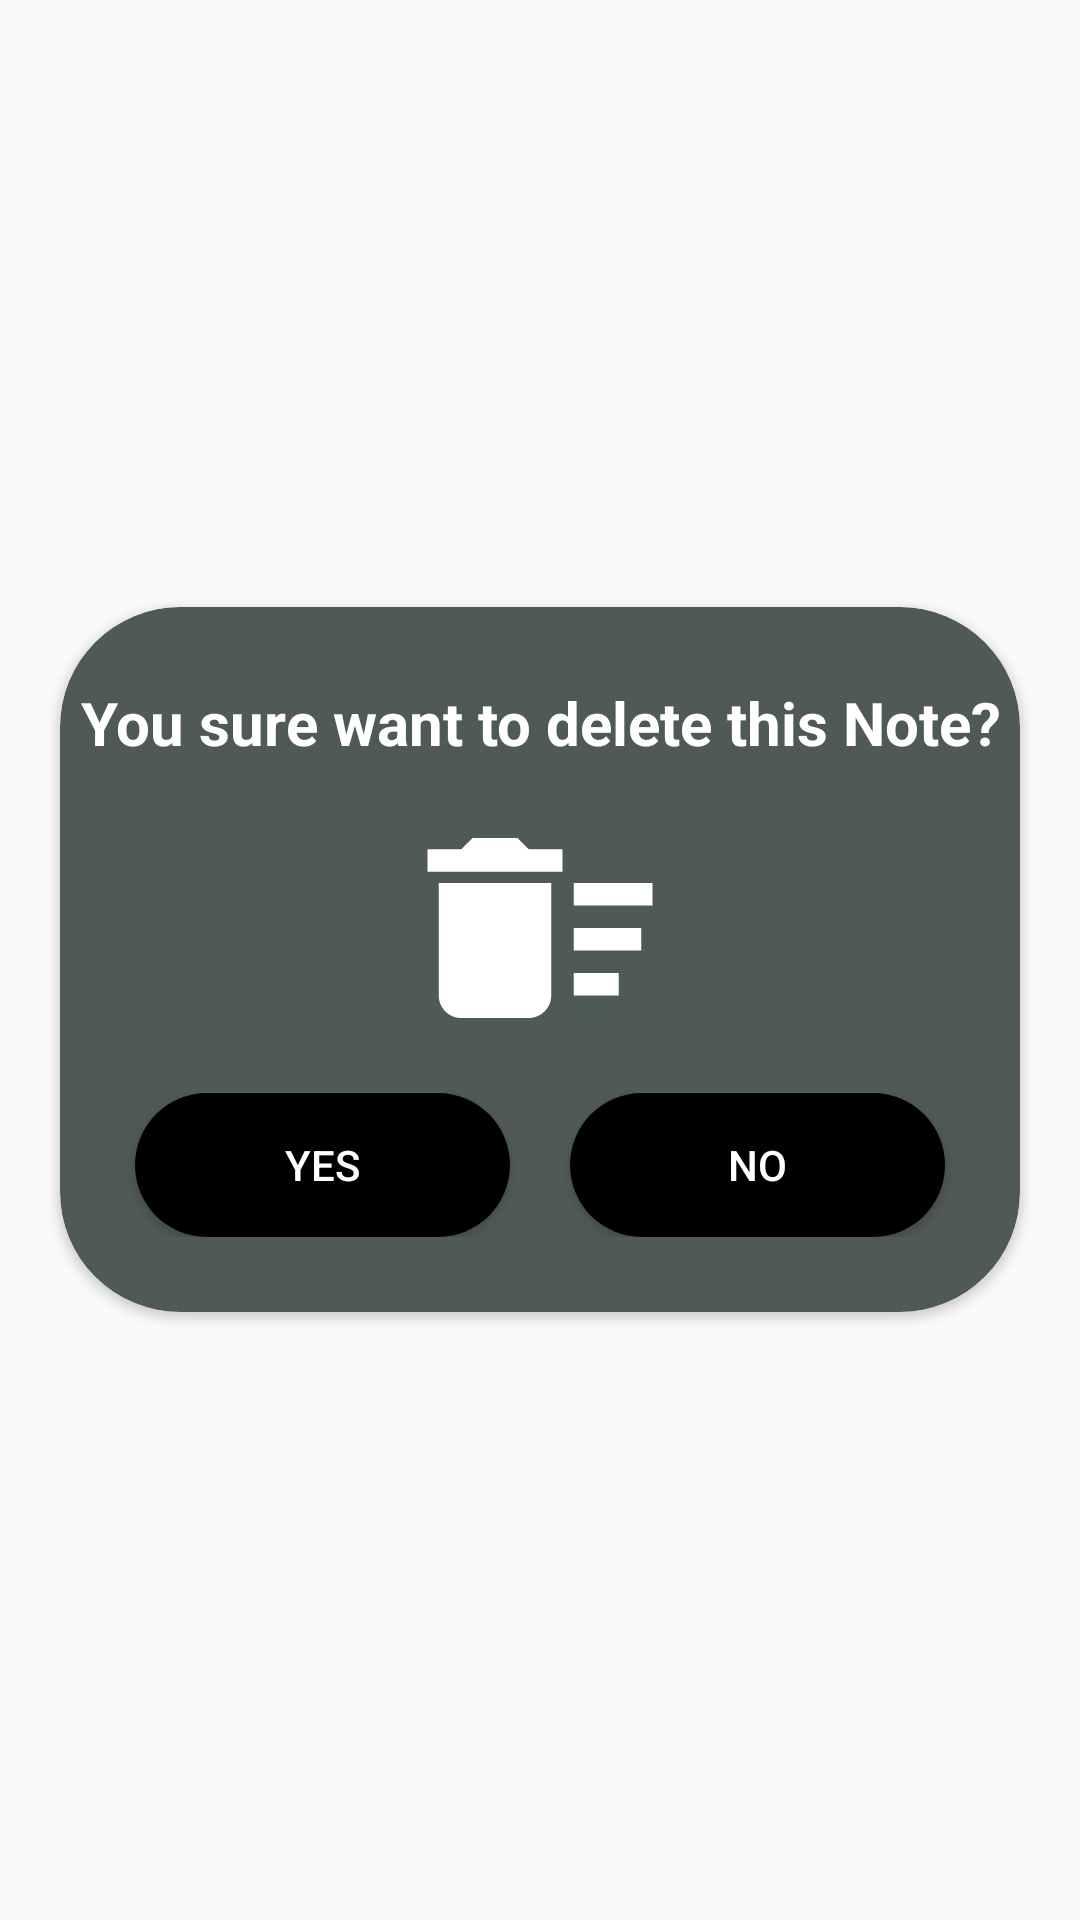

Icon bounding boxes for this 1080w x 1920h phone screenshot, format box=[x1, y1, x2, y2]:
delete sweep: box=[427, 838, 653, 1018]
